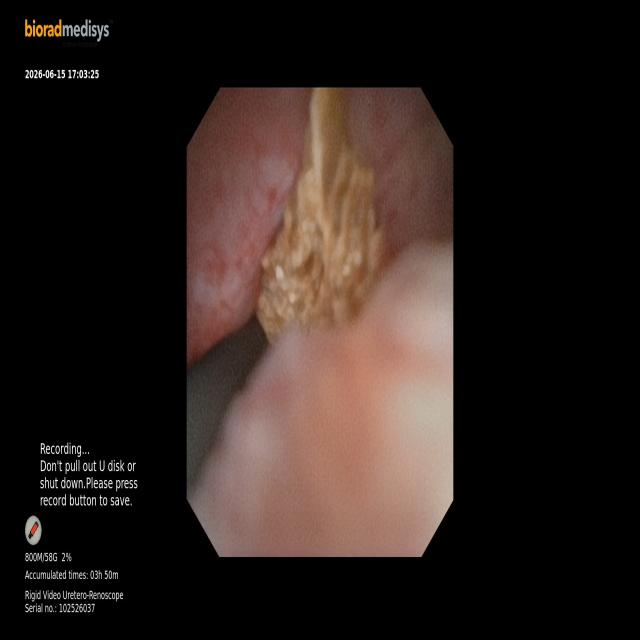stone-new: (257, 89, 383, 341)
